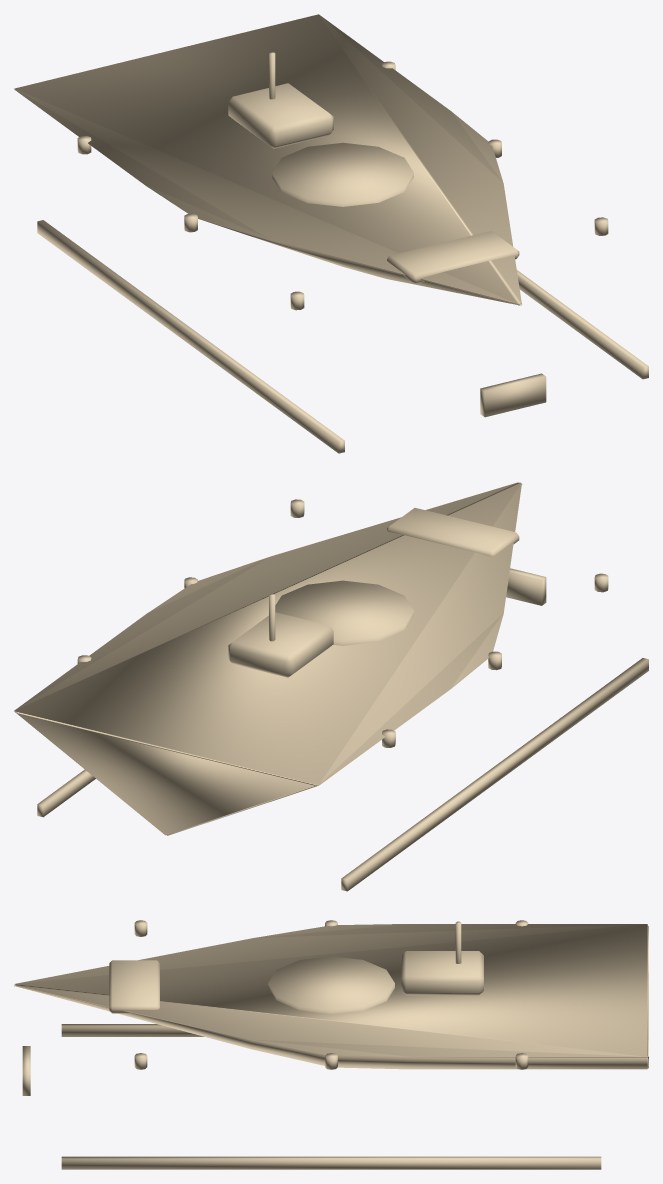
The model's file is skiff_scout_tidemark.glb.
3 views of the same model, one above another, from view 1: azimuth 30°, elevation 25°; view 2: azimuth 150°, elevation 25°; view 3: azimuth 270°, elevation 25° (orthographic). The views are drawn at different scales.
Parts seen in each view (by area): view 1: skiff_scout_tidemark; view 2: skiff_scout_tidemark; view 3: skiff_scout_tidemark.
Boxes of the visible parts, left/top/right/bottom form: skiff_scout_tidemark: left=14, top=14, right=648, bottom=453; skiff_scout_tidemark: left=14, top=482, right=648, bottom=891; skiff_scout_tidemark: left=14, top=920, right=648, bottom=1169.
Size of the model in its own units: 2.06 by 1.25 by 4.
